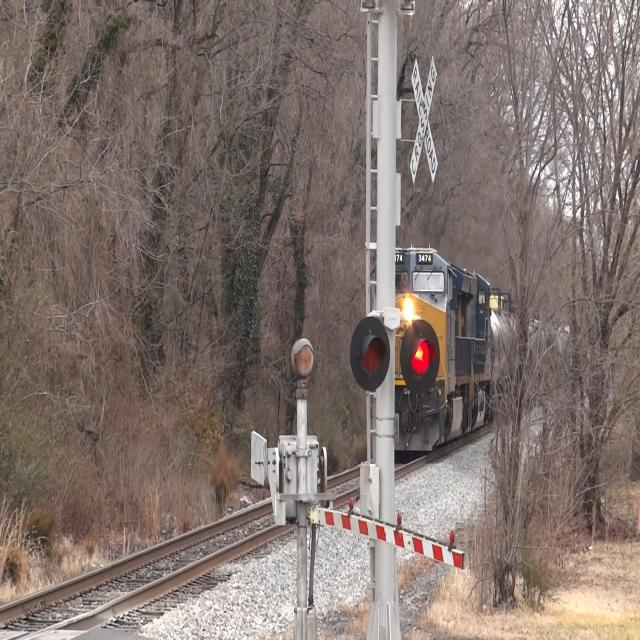locomotive: (396, 246, 496, 464)
